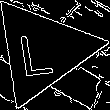L_N: (22, 24, 63, 77)
